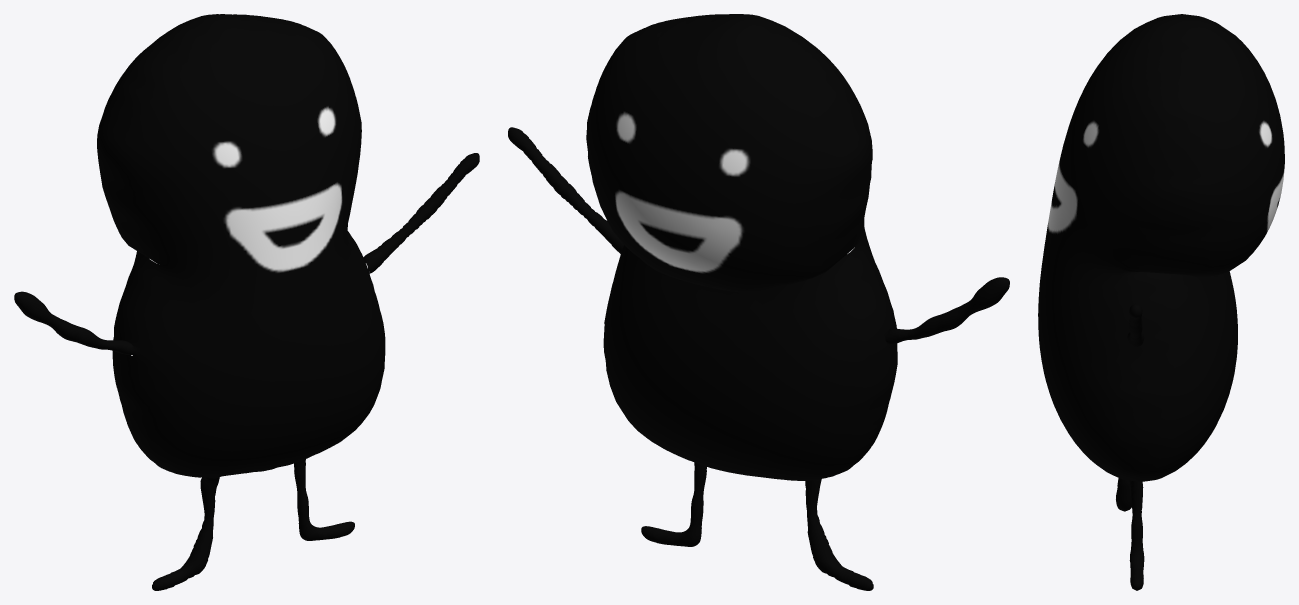
Rendered from asset.glb.
3 renders of one model, left to right at view 1: azimuth 30°, elevation 25°; view 2: azimuth 150°, elevation 25°; view 3: azimuth 270°, elevation 25°, orthographic. The views are drawn at different scales.
Size of the model in its own units: 5.66 by 6.14 by 2.63.
Materials: 1 (1 with a texture image).
